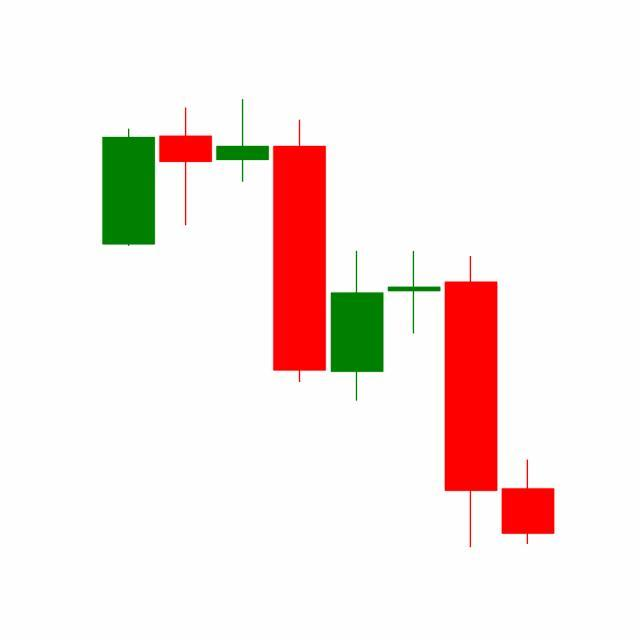Evening Doji Star: (328, 247, 500, 548)
